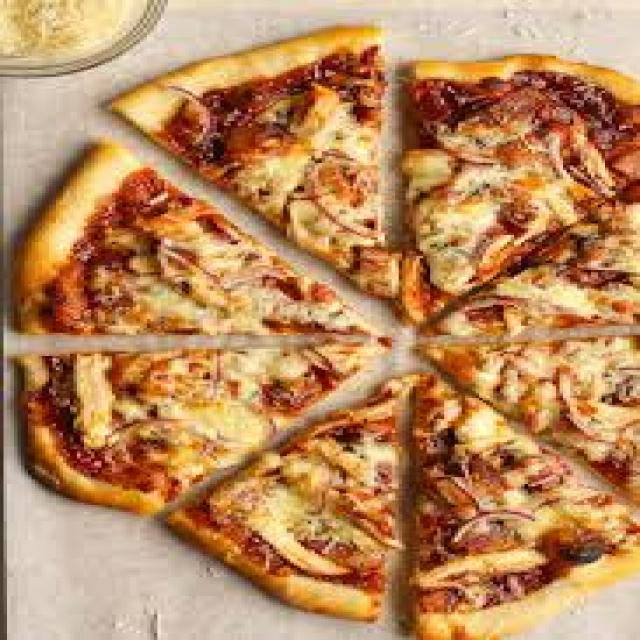피자: (7, 21, 640, 640)
